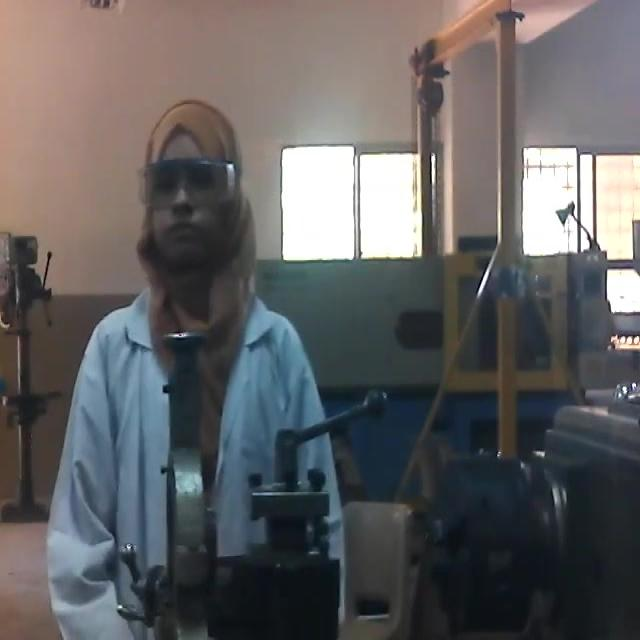googles: (136, 154, 234, 214)
labcoat: (45, 260, 353, 640)
